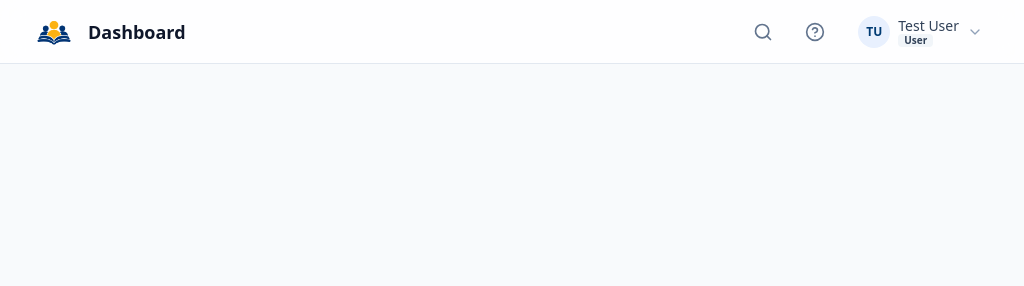
Test: Profile dropdown sign out › logs out through Auth0 on the first click and returns to the landing page
Click the button "TU Test User User": [921, 32] box [849,8,992,54]
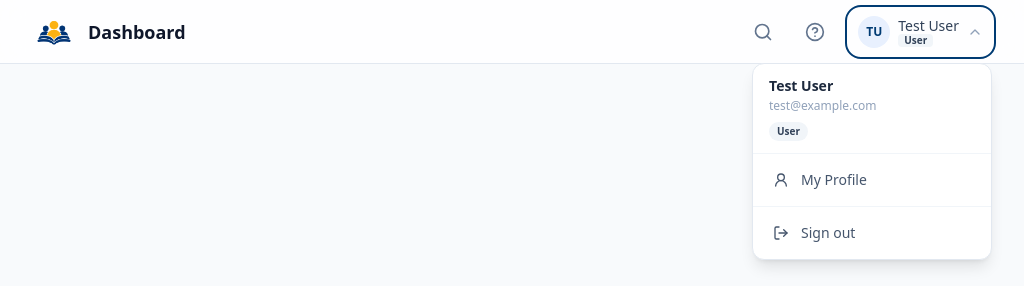
Click the menu item "Sign out": [872, 232] box [761,214,983,250]
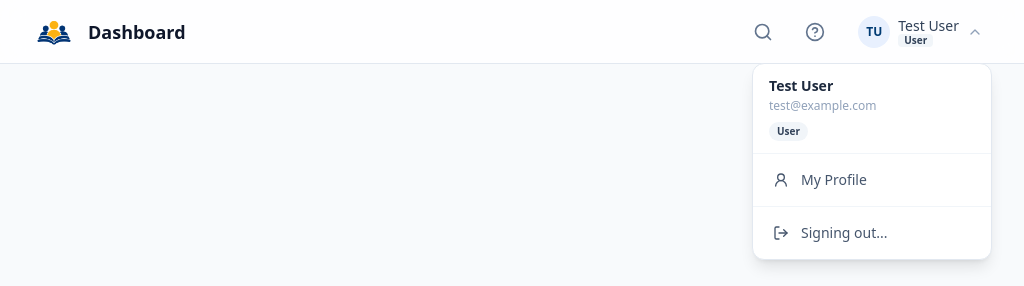
Check: the menu item "Signing out..." is disabled, box [761,214,983,250]
